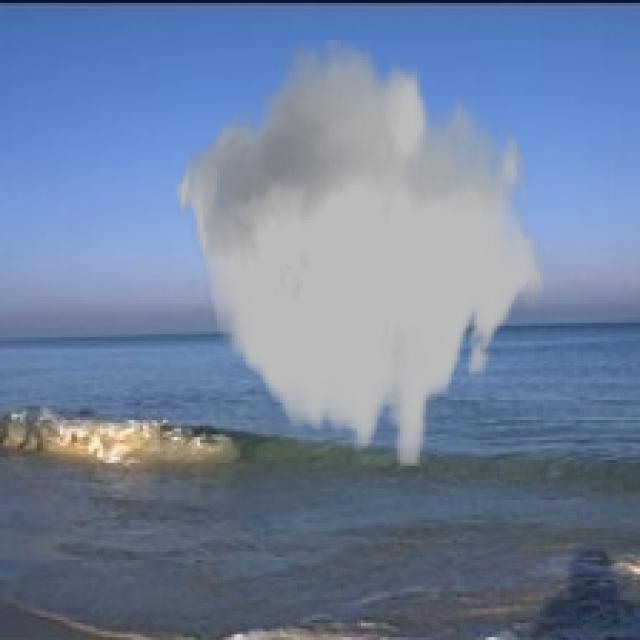smoke: (174, 40, 546, 466)
